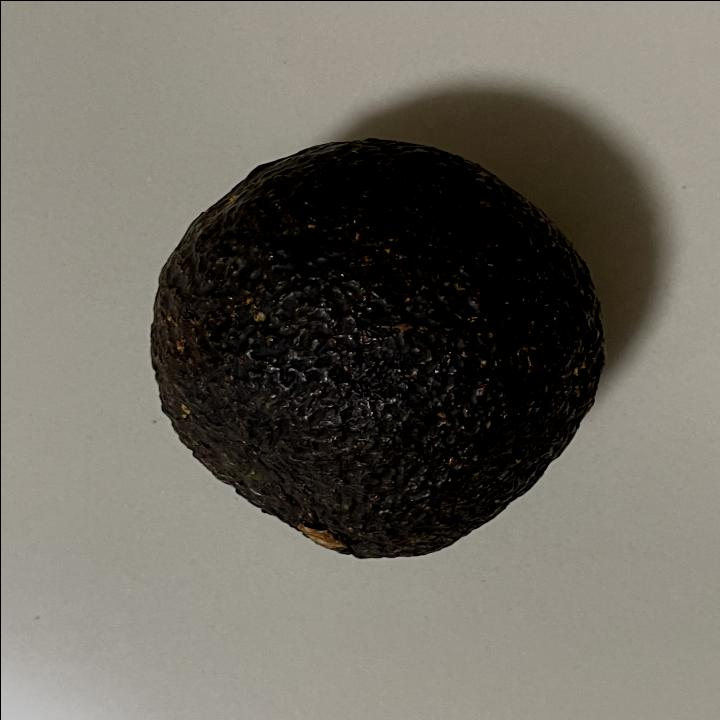Level3: (139, 131, 612, 572)
